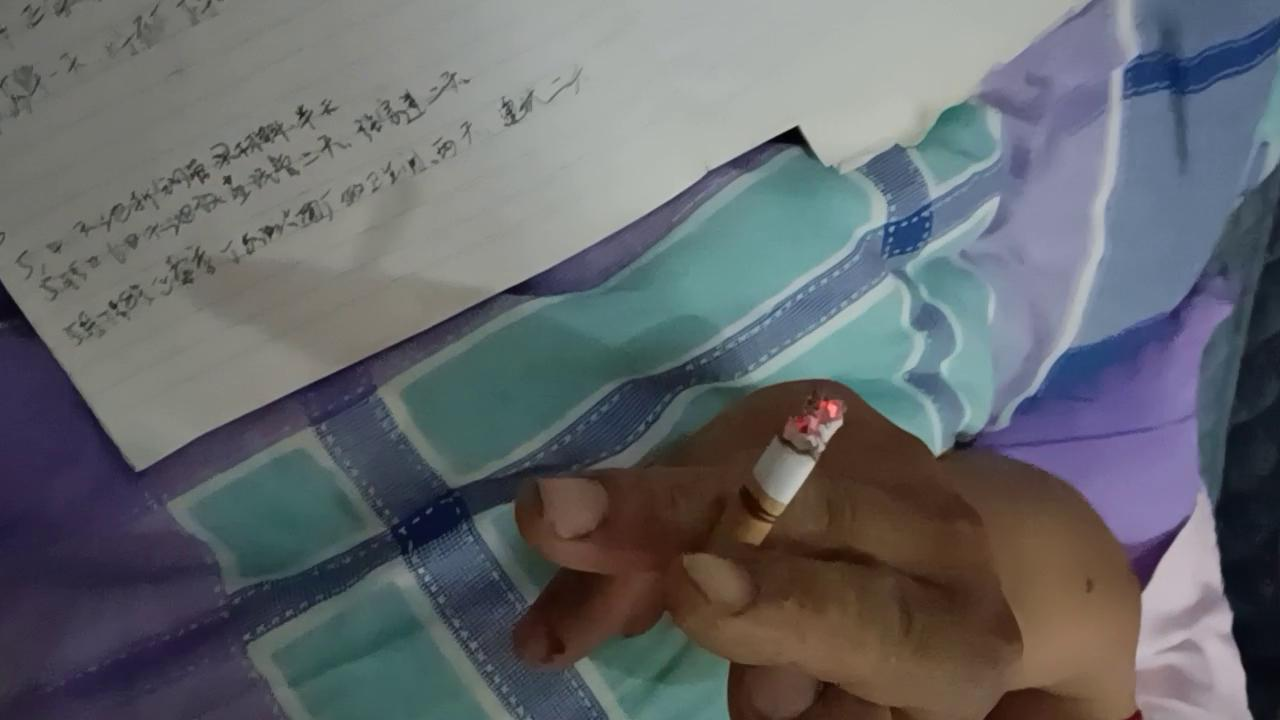smoke: (670, 390, 846, 639)
